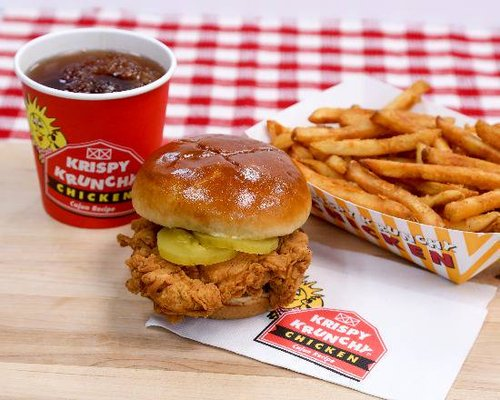soup: (118, 136, 314, 321)
